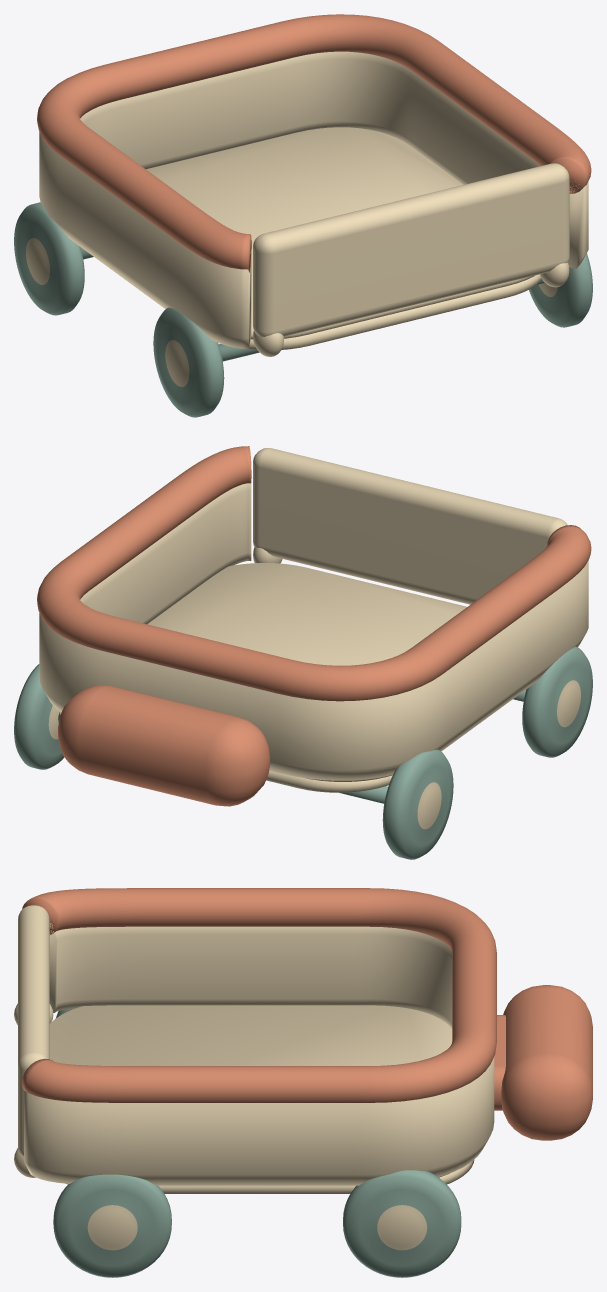
File: food_cart_v02.glb
3 views of the same model, one above another, from view 1: azimuth 30°, elevation 25°; view 2: azimuth 150°, elevation 25°; view 3: azimuth 270°, elevation 25° (orthographic). The views are drawn at different scales.
Visible parts, largest first — view 1: Tray_Wall, Gate, Tray_Rim, Tray, Wheel_RL, Wheel_FL, Chassis, Wheel_FR, Gate_Hinge; view 2: Tray_Wall, Tray_Rim, Gate, Tray, PushPad, Wheel_RL, Wheel_FL, Wheel_RR, Chassis; view 3: Tray_Wall, Tray_Rim, Tray, PushPad, Wheel_RR, Wheel_FR, Gate, Chassis, PushPad_Mount.
Part boxes in pixels (box(x1,y1,x2,y2)): Tray_Wall: box(39, 51, 588, 348); Gate: box(253, 163, 569, 336); Tray_Rim: box(37, 14, 591, 272); Tray: box(146, 127, 534, 339); Wheel_RL: box(14, 202, 84, 315); Wheel_FL: box(153, 307, 224, 417); Chassis: box(247, 274, 542, 349); Wheel_FR: box(529, 253, 592, 327); Gate_Hinge: box(253, 331, 283, 356); Tray_Wall: box(39, 483, 588, 780); Tray_Rim: box(37, 446, 591, 701); Gate: box(253, 448, 567, 604); Tray: box(147, 563, 466, 781); PushPad: box(58, 685, 270, 806); Wheel_RL: box(382, 749, 453, 859); Wheel_FL: box(522, 646, 592, 757); Wheel_RR: box(14, 664, 64, 769); Chassis: box(60, 712, 392, 792); Tray_Wall: box(24, 923, 494, 1185); Tray_Rim: box(21, 888, 496, 1102); Tray: box(49, 1005, 452, 1177); PushPad: box(501, 985, 592, 1140); Wheel_RR: box(343, 1170, 461, 1277); Wheel_FR: box(53, 1174, 171, 1277); Gate: box(18, 905, 49, 1155); Chassis: box(66, 1160, 474, 1193); PushPad_Mount: box(494, 1015, 505, 1110).
Size of the model in its own units: 1.8 by 0.85 by 2.2.
